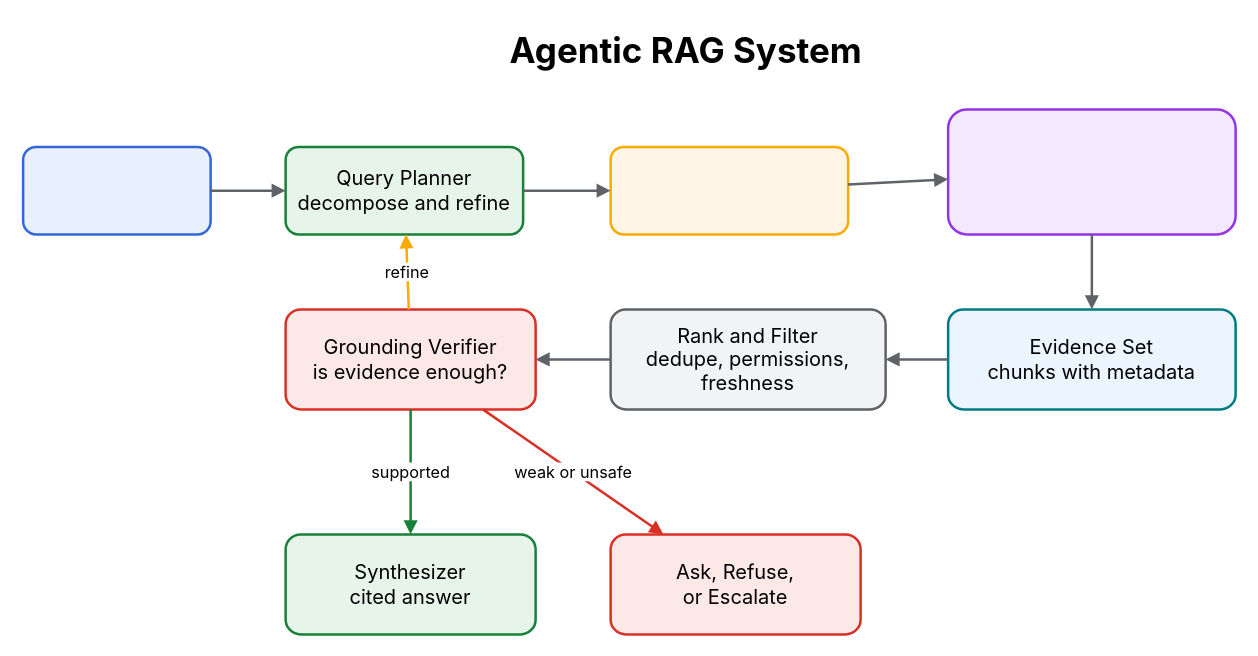
Some shapes in this 1258 by 656 pixel diagram are drawn without their labels. The shapes that lost their labels are listed below. From the top down, each one's centre as x and y in pixels, then its label:
At pixel 116 190: "User Question".
At pixel 729 190: "Retrieval Router choose sources".
At pixel 1091 171: "Sources vector, keyword, APIs, memory".
